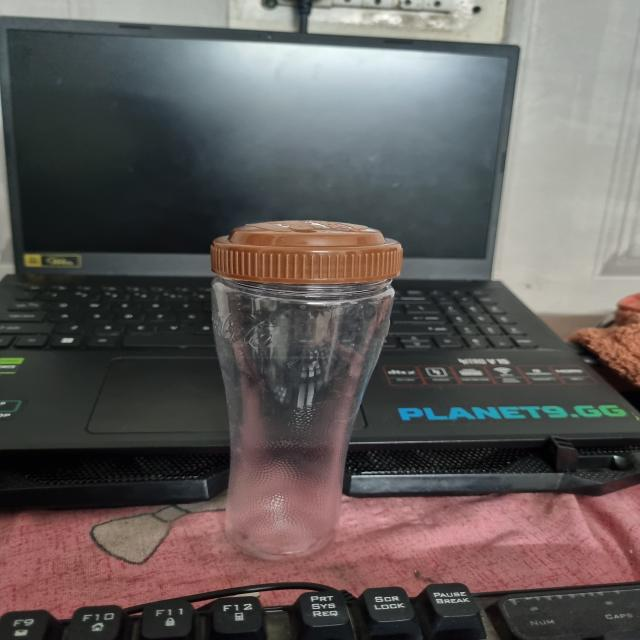plastic_bottle: (177, 216, 428, 560)
